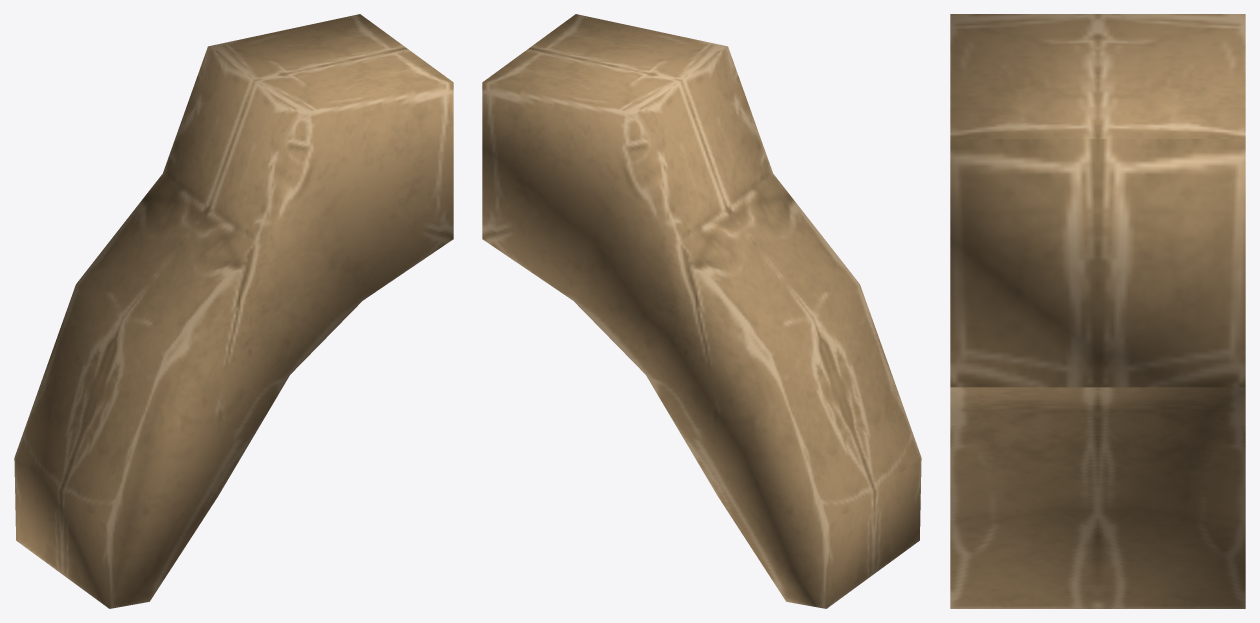
The model's file is FBX_flying_stone_05.fbx.
3 views of the same model, side by side, from view 1: azimuth 30°, elevation 25°; view 2: azimuth 150°, elevation 25°; view 3: azimuth 270°, elevation 25° (orthographic). The views are drawn at different scales.
Visible parts, largest first — view 1: polySurface_flying_stone_05; view 2: polySurface_flying_stone_05; view 3: polySurface_flying_stone_05.
Boxes of the visible parts, x1=… form: polySurface_flying_stone_05: x1=14, y1=14, x2=453, y2=608; polySurface_flying_stone_05: x1=482, y1=14, x2=921, y2=608; polySurface_flying_stone_05: x1=950, y1=14, x2=1245, y2=608.
Size of the model in its own units: 5.24 by 6.52 by 2.45.
